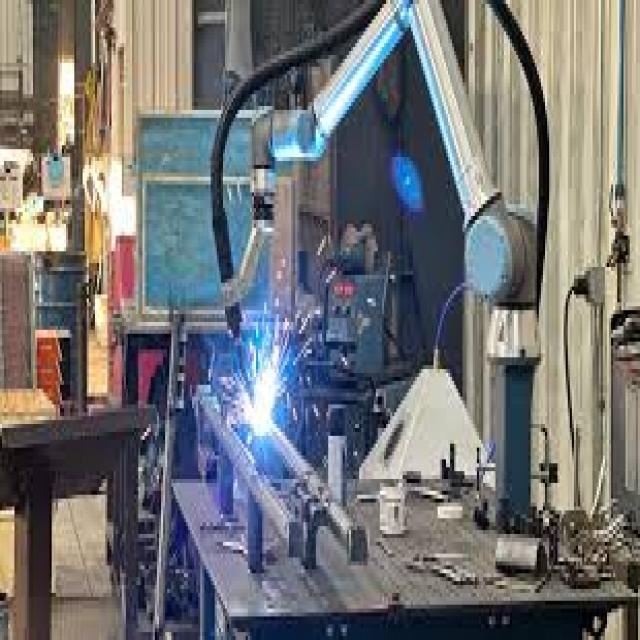welding: (249, 358, 278, 434)
